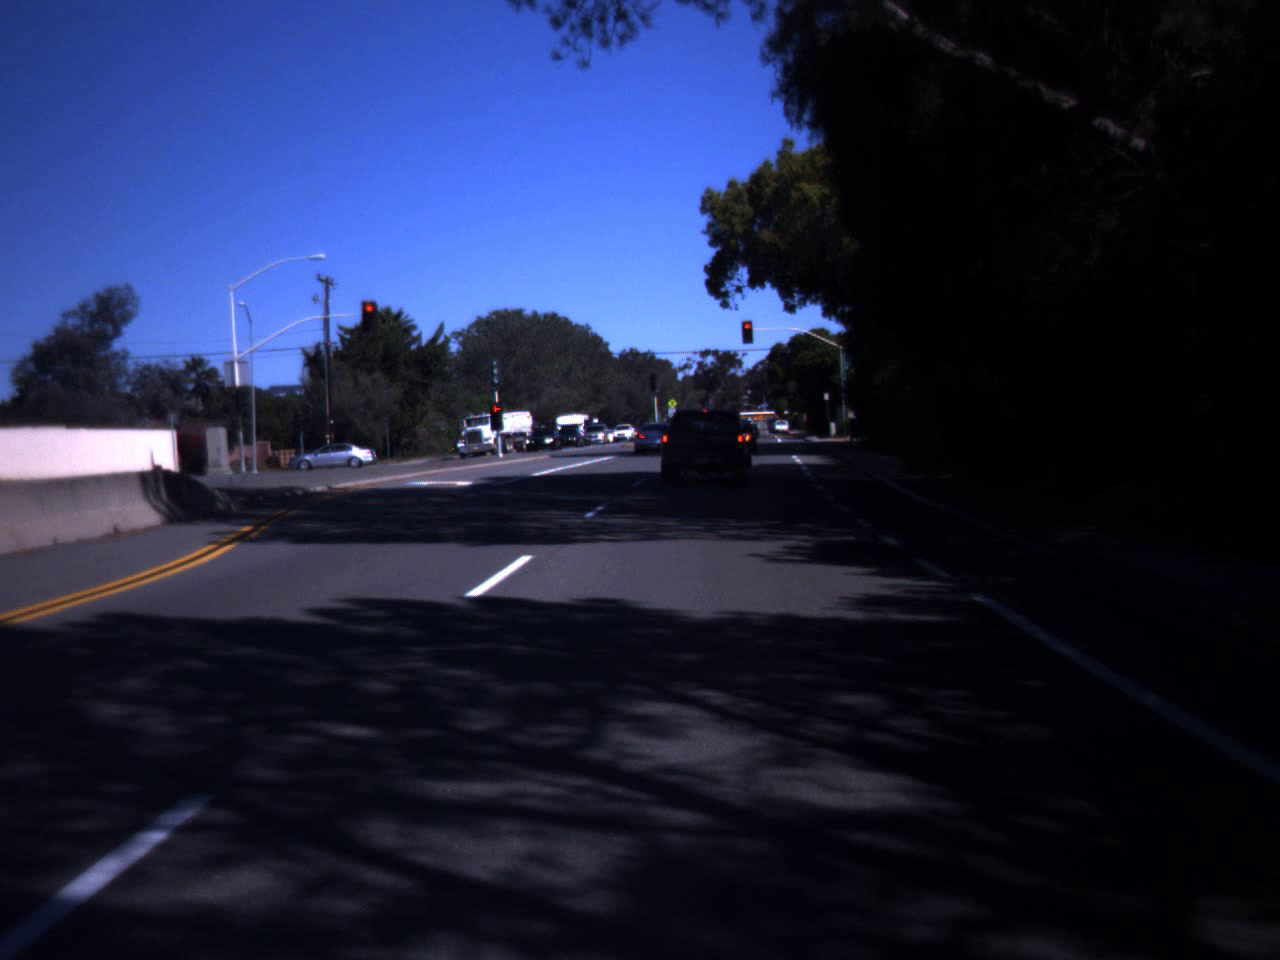stop: (488, 403, 506, 430), (740, 322, 755, 340), (364, 304, 376, 322)
